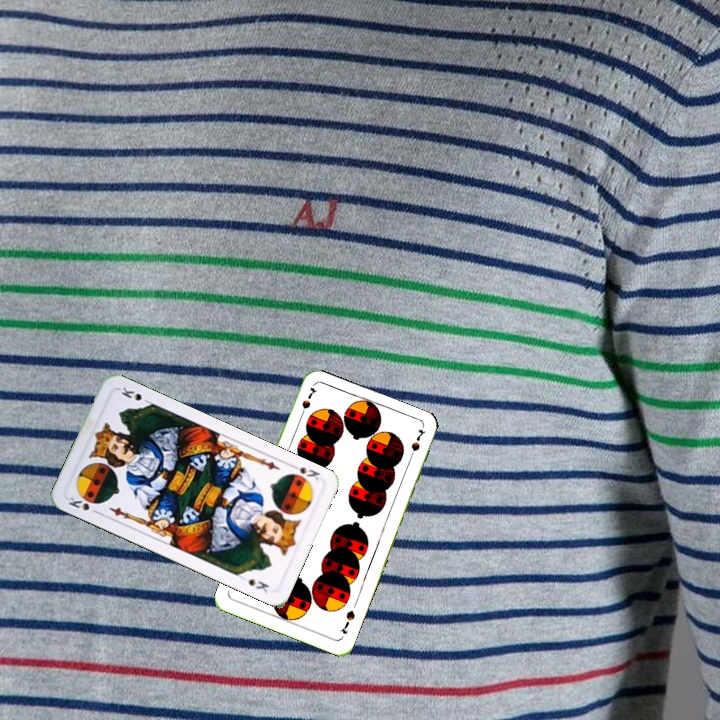S7: (295, 383, 319, 421), (336, 606, 357, 637)
SK: (64, 493, 102, 517), (286, 460, 322, 483)
